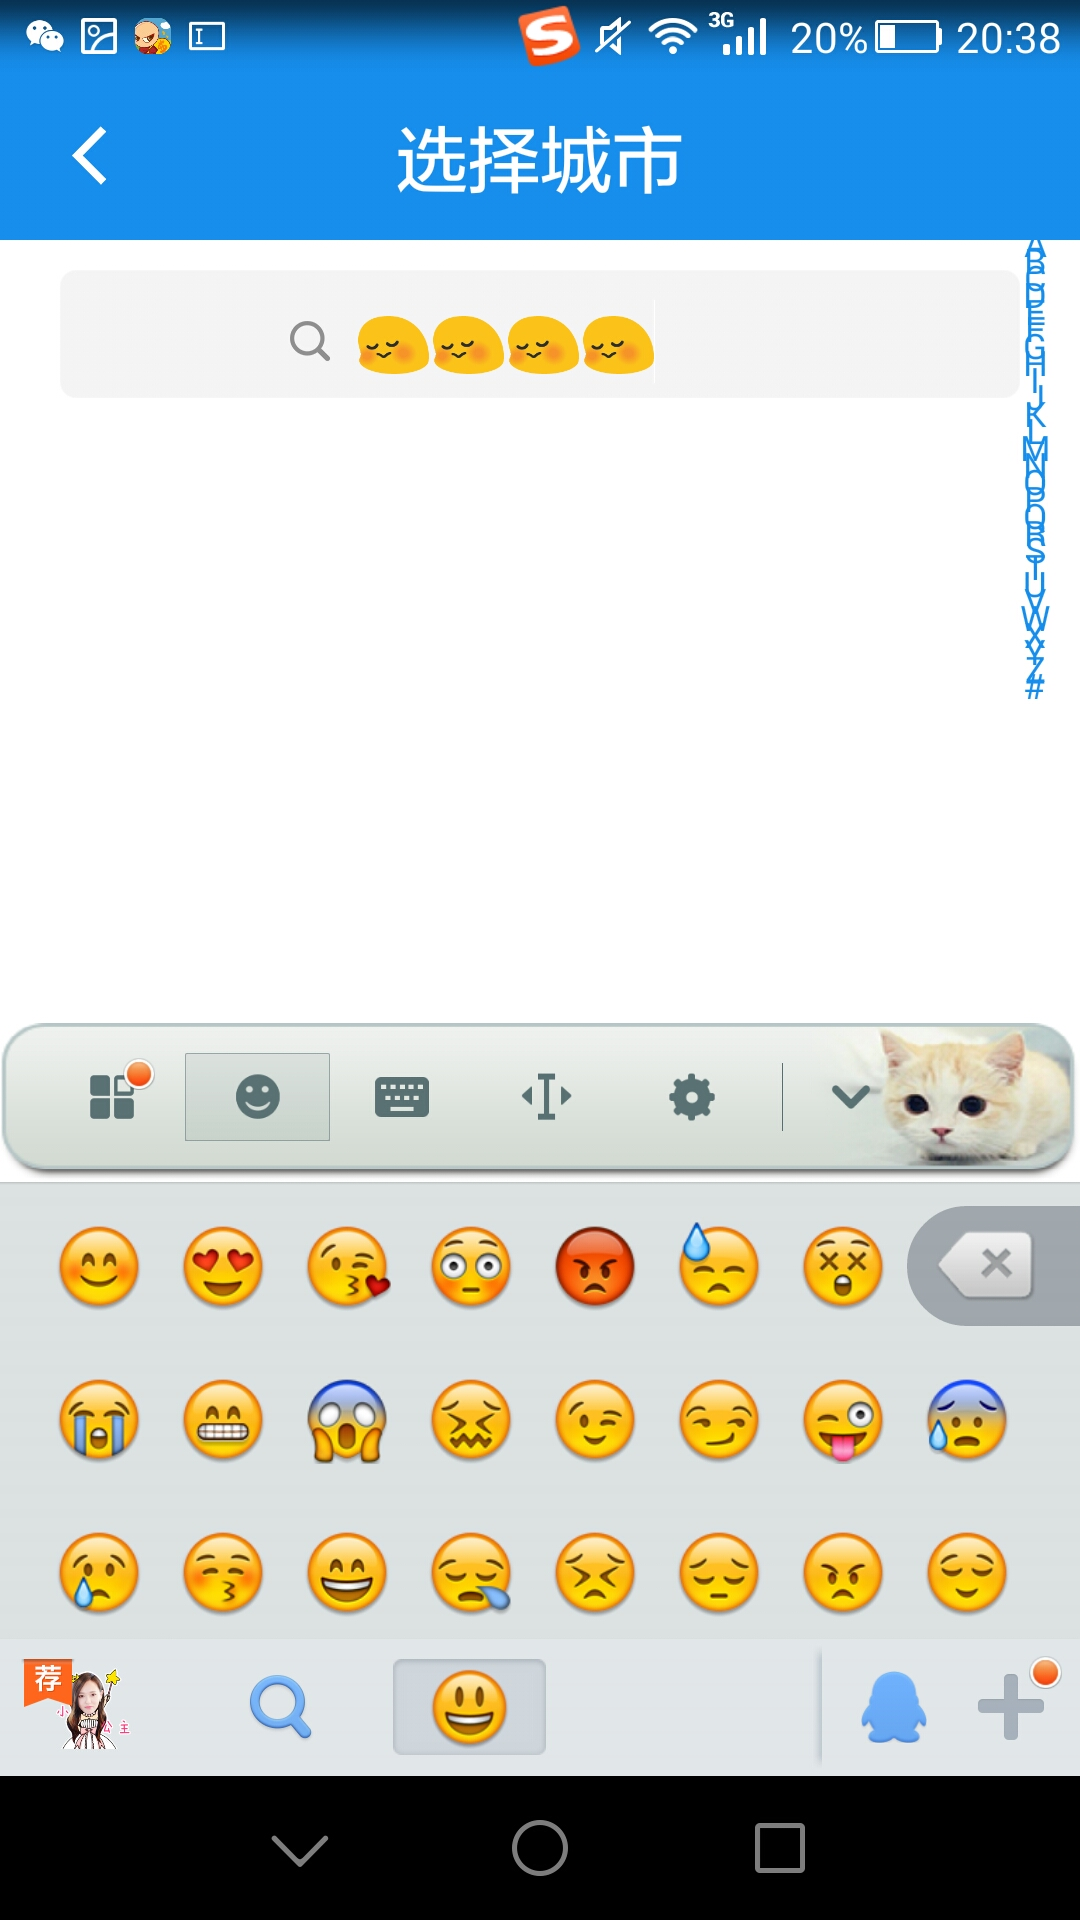textview: (47, 247, 1029, 411)
